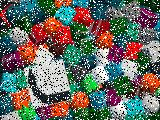Right: (23, 59, 72, 109)
